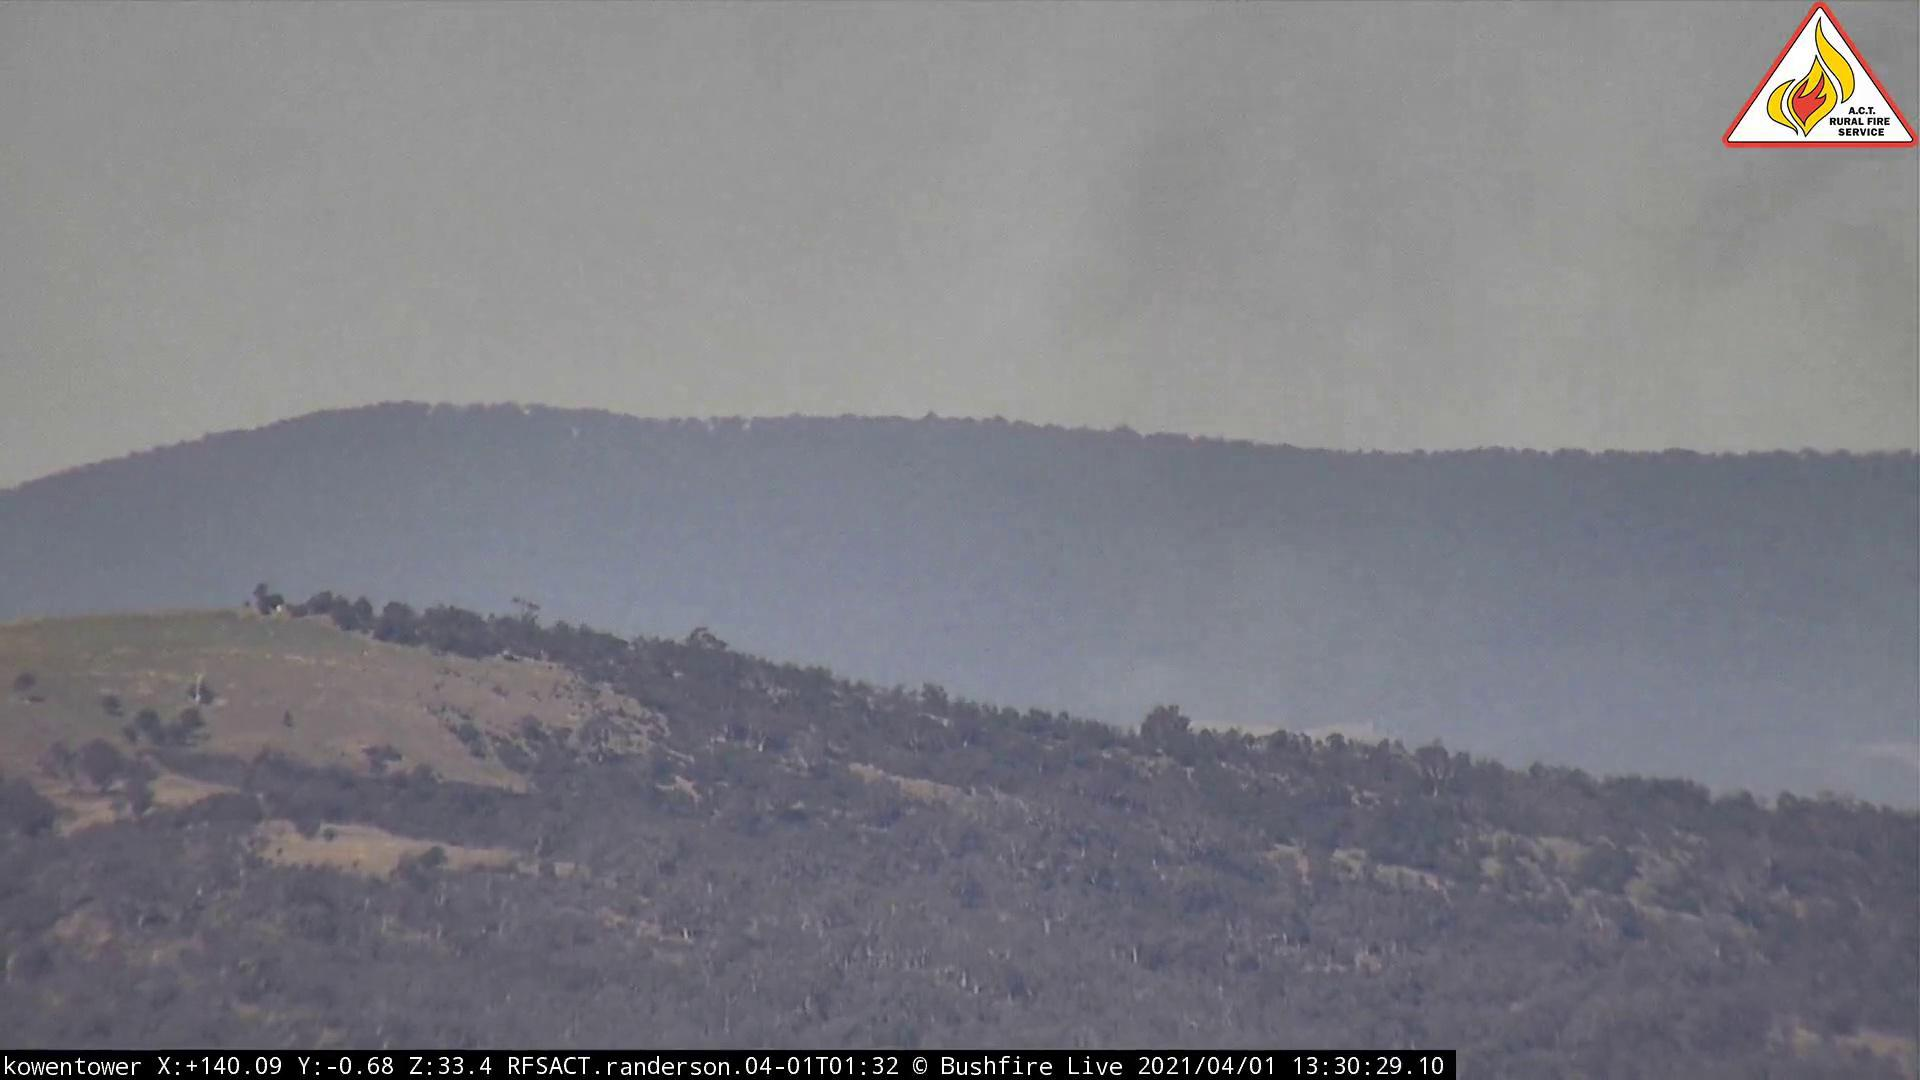instance_salient_object: (1019, 3, 1920, 752)
